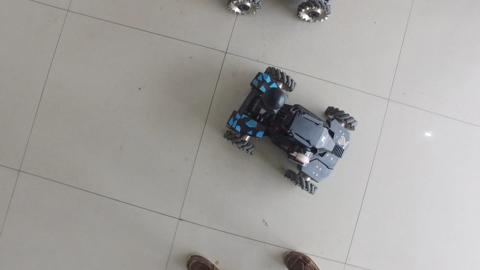chariot: (217, 63, 363, 199)
